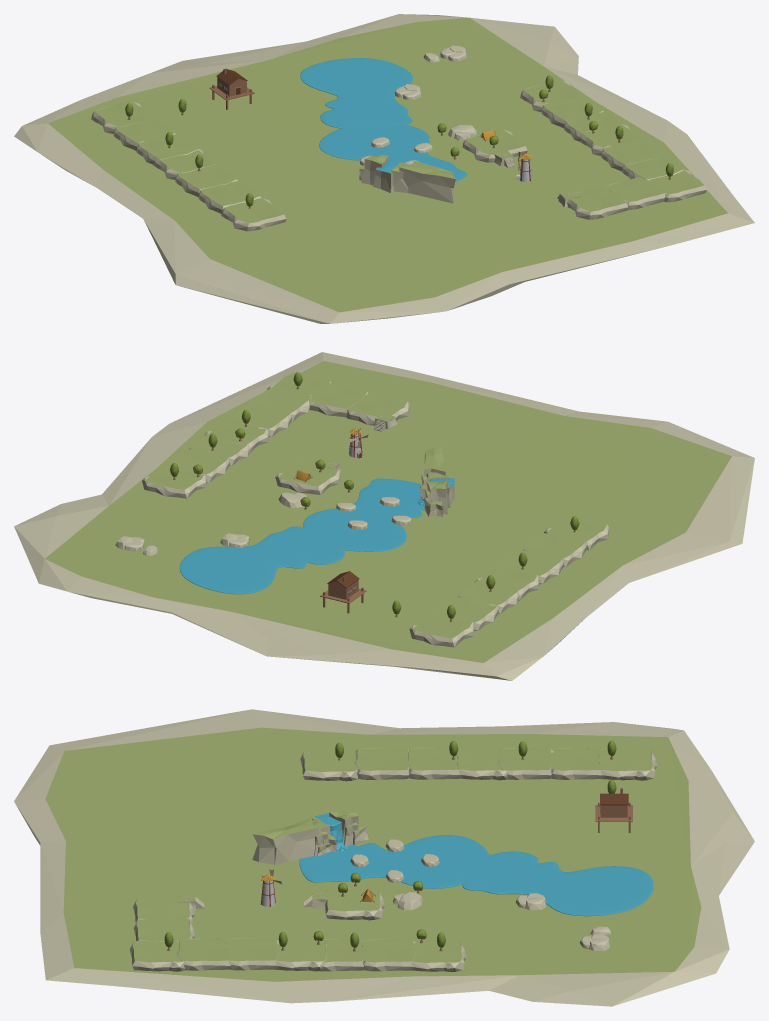
The model's file is ciudad.gltf.
3 views of the same model, one above another, from view 1: azimuth 30°, elevation 25°; view 2: azimuth 150°, elevation 25°; view 3: azimuth 270°, elevation 25° (orthographic). The views are drawn at different scales.
Visible parts, largest first — view 1: Cliff_2, Lake__1_, Lake, Cliff_5, Cliff_2__19_, Cliff_2__8_, Water_Fall, Cliff_2__7_, Cliff_2_1, Cliff_2__4_, Cliff_2__16_, Cliff_2__15_ (+11 smaller); view 2: Cliff_2, Lake__1_, Lake, Cliff_2__18_, Cliff_2_1, Cliff_2__3_, Cliff_2__8_, Cliff_2__7_, Water_Fall, Cliff_2__16_, Cliff_2__14_, Cliff_2__4_ (+10 smaller); view 3: Cliff_2, Lake__1_, Lake, Cliff_5, Water_Fall, Cliff_2__18_, Cliff_2__16_, Cliff_2__19_, Cliff_2__4_, Cliff_2_1, Cliff_2__1_, Cliff_2__3_ (+11 smaller).
Part boxes in pixels (x1=…): Cliff_2: x1=14, y1=14, x2=754, y2=323; Lake__1_: x1=300, y1=58, x2=412, y2=128; Lake: x1=319, y1=124, x2=466, y2=181; Cliff_5: x1=399, y1=161, x2=455, y2=203; Cliff_2__19_: x1=221, y1=198, x2=286, y2=231; Cliff_2__8_: x1=567, y1=186, x2=628, y2=219; Water_Fall: x1=359, y1=155, x2=409, y2=192; Cliff_2__7_: x1=605, y1=177, x2=665, y2=209; Cliff_2_1: x1=462, y1=130, x2=527, y2=162; Cliff_2__4_: x1=601, y1=139, x2=662, y2=171; Cliff_2__16_: x1=198, y1=181, x2=261, y2=213; Cliff_2__15_: x1=175, y1=164, x2=237, y2=197; Cliff_2: x1=14, y1=352, x2=754, y2=680; Lake__1_: x1=179, y1=526, x2=344, y2=594; Lake: x1=303, y1=478, x2=424, y2=551; Cliff_2__18_: x1=409, y1=612, x2=474, y2=647; Cliff_2_1: x1=275, y1=460, x2=340, y2=494; Cliff_2__3_: x1=142, y1=465, x2=206, y2=498; Cliff_2__8_: x1=346, y1=392, x2=409, y2=425; Cliff_2__7_: x1=309, y1=383, x2=368, y2=417; Water_Fall: x1=418, y1=472, x2=454, y2=516; Cliff_2__16_: x1=523, y1=533, x2=587, y2=566; Cliff_2__14_: x1=457, y1=580, x2=519, y2=613; Cliff_2__4_: x1=230, y1=403, x2=292, y2=436; Cliff_2: x1=14, y1=709, x2=754, y2=1006; Lake__1_: x1=462, y1=851, x2=653, y2=916; Lake: x1=299, y1=835, x2=489, y2=888; Cliff_5: x1=252, y1=818, x2=325, y2=864; Water_Fall: x1=312, y1=808, x2=368, y2=856; Cliff_2__18_: x1=598, y1=748, x2=657, y2=780; Cliff_2__16_: x1=354, y1=748, x2=409, y2=779; Cliff_2__19_: x1=300, y1=749, x2=357, y2=781; Cliff_2__4_: x1=224, y1=938, x2=279, y2=970; Cliff_2_1: x1=325, y1=888, x2=384, y2=920; Cliff_2__1_: x1=361, y1=939, x2=415, y2=971; Cliff_2__3_: x1=407, y1=939, x2=466, y2=971.
Bounding box in the file's own units: 2113 × 156 × 2201.
Materials: 2 (2 with a texture image).
